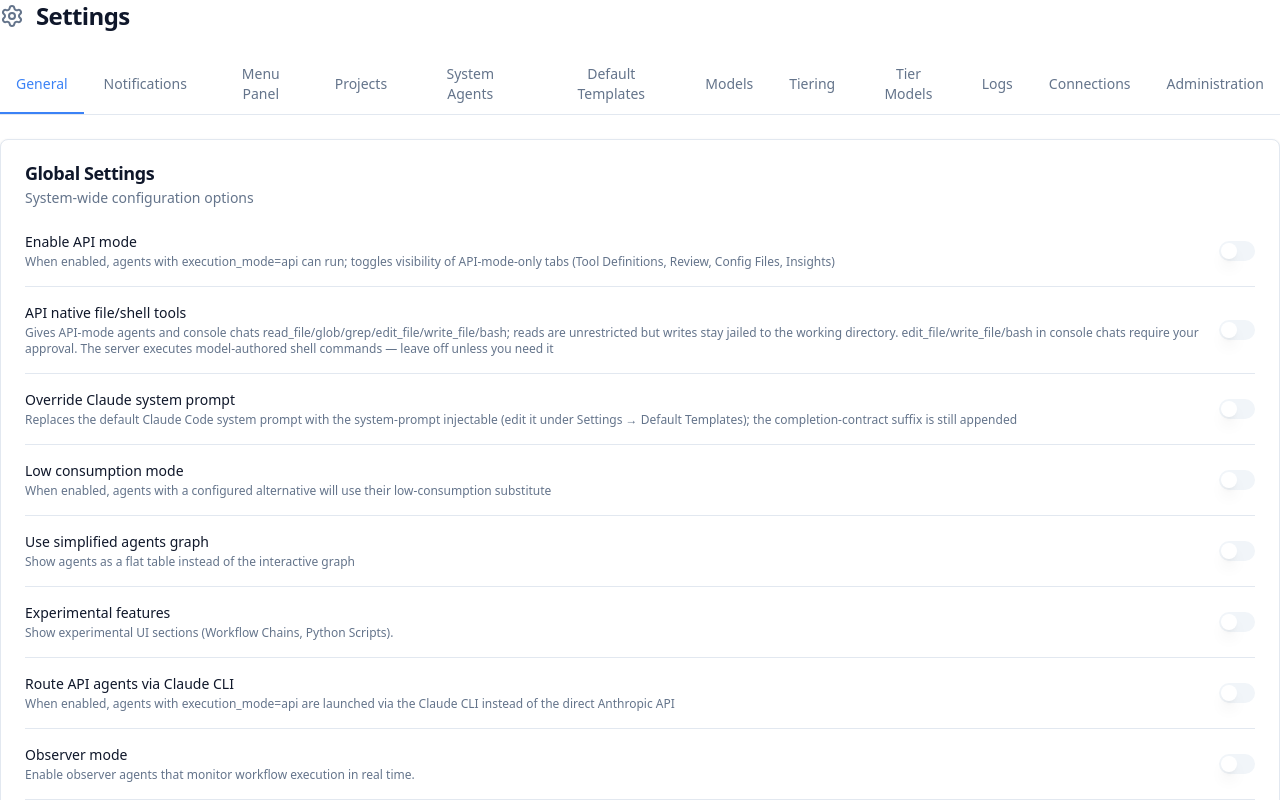
SettingsPage - use_git_worktrees toggle › Display mode › shows "Worktrees: enabled" when use_git_worktrees is true
Click the button "Projects".
click(361, 85)  # box x1=319 y1=56 x2=403 y2=114
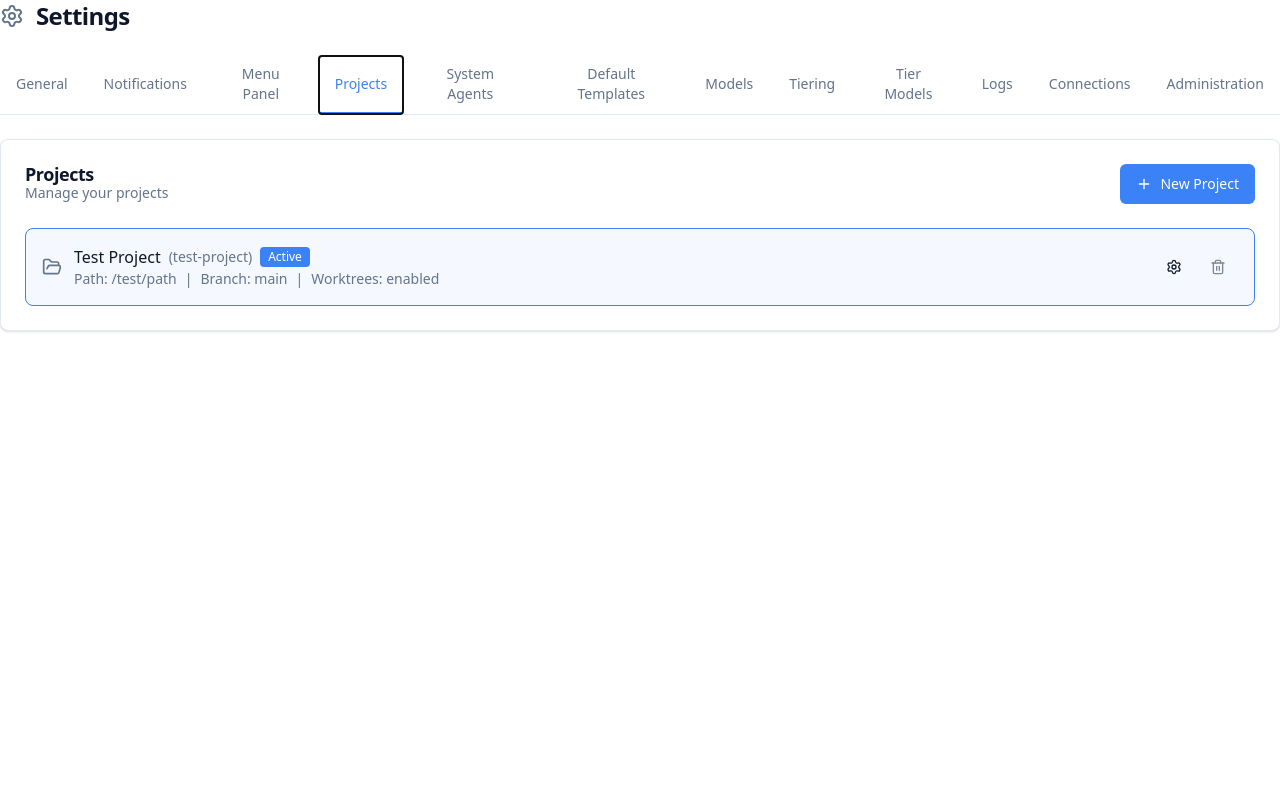
Now the text "Test Project" is shown, box x1=74 y1=245 x2=161 y2=269
Now the text "Worktrees: enabled" is shown, box x1=311 y1=269 x2=439 y2=288
